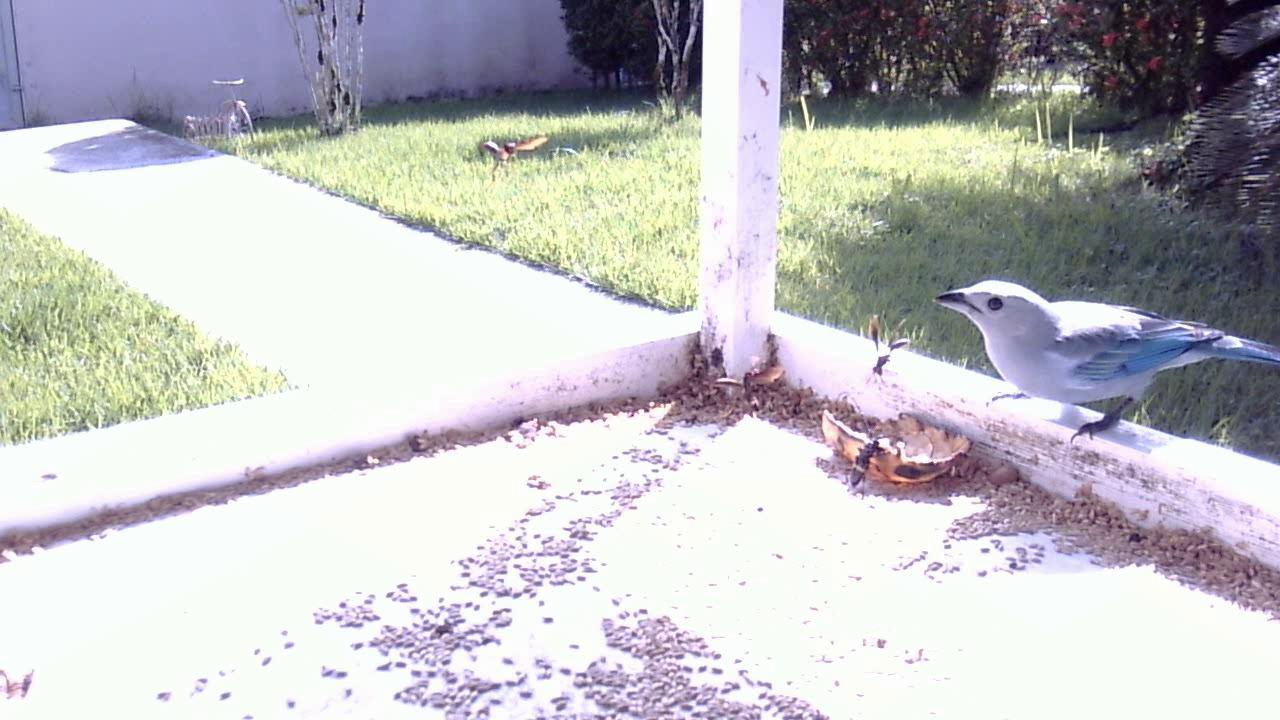sanhaco_da_amazonia: (925, 266, 1276, 458)
